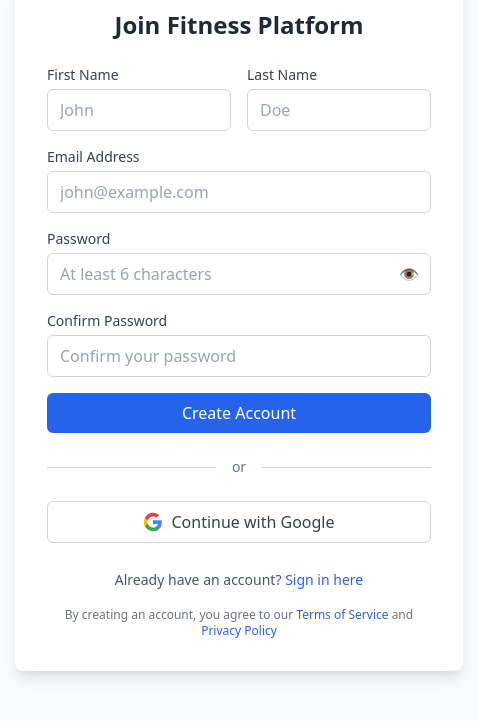
Scenario: SignupForm › should validate email format
Type "invalid-email" into the field labelled "Email Address".
click(239, 192); type("invalid-email")  # box x1=47 y1=171 x2=431 y2=213
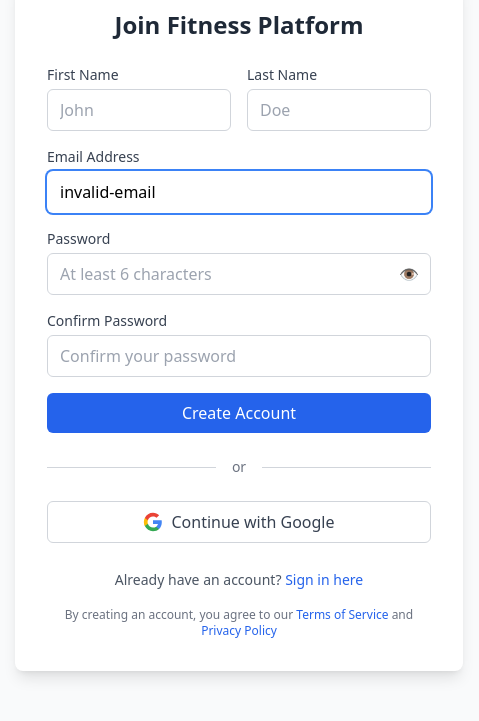
Click the button "Create Account".
click(239, 413)  # box x1=47 y1=393 x2=431 y2=433
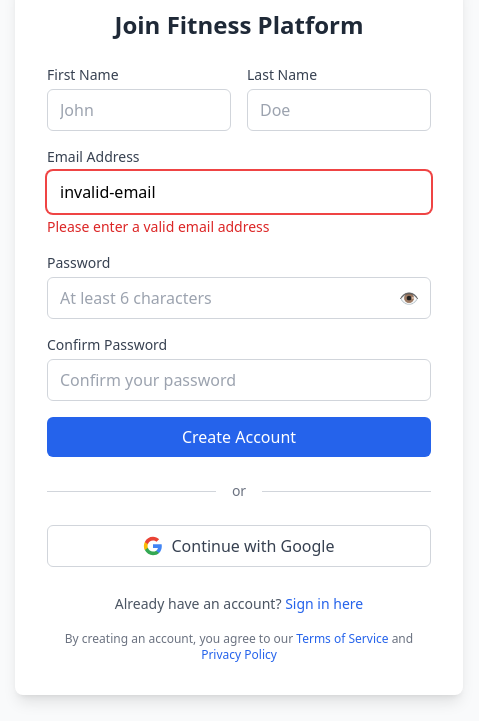
Result: the text "Please enter a valid email address" is shown at x1=47 y1=217 x2=270 y2=236
